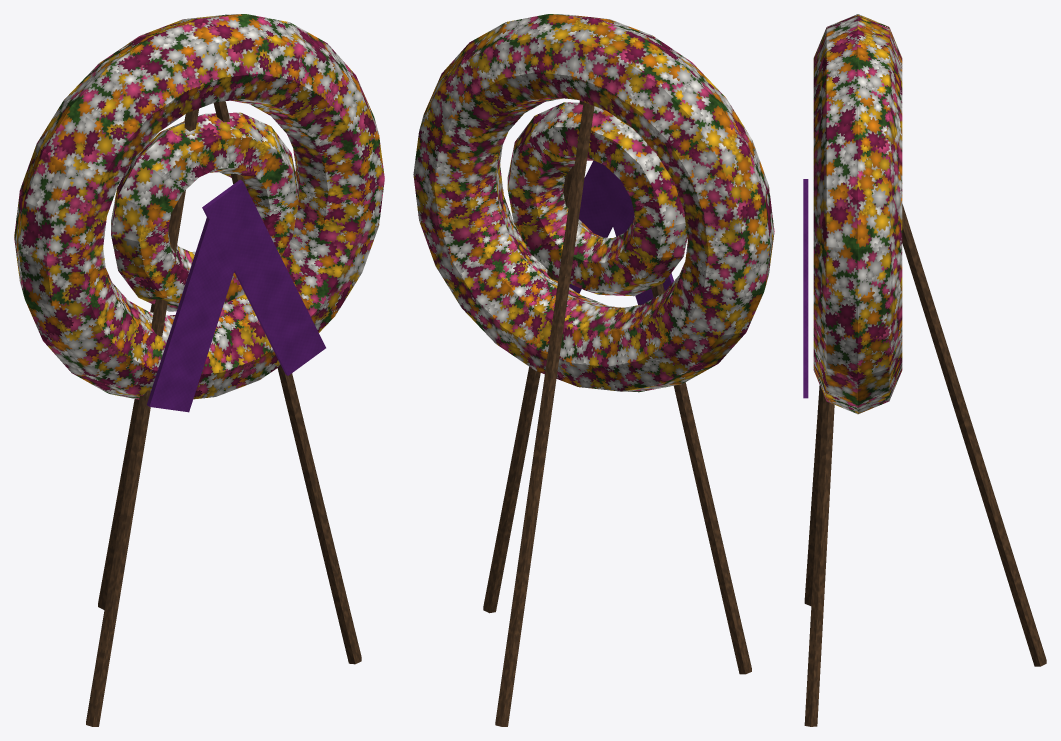
The model's file is corona_flores.obj.
The picture shows the model from 3 angles, left to right: view 1: azimuth 30°, elevation 25°; view 2: azimuth 150°, elevation 25°; view 3: azimuth 270°, elevation 25°; orthographic projection. The views are drawn at different scales.
Parts seen in each view (by area): view 1: Corona, Torus.001, Liston, Liston.001, Pata_Tripie, Pata_Tripie.001, Pata_Tripie.002; view 2: Corona, Torus.001, Pata_Tripie.002, Pata_Tripie, Pata_Tripie.001, Liston, Liston.001; view 3: Corona, Pata_Tripie.002, Pata_Tripie.001, Pata_Tripie, Liston.
Part boxes in pixels (x1,y1,x2,y2): Corona: (14, 14, 384, 399); Torus.001: (111, 112, 298, 311); Liston: (202, 179, 325, 375); Liston.001: (147, 217, 248, 412); Pata_Tripie: (86, 108, 198, 726); Pata_Tripie.001: (213, 101, 361, 664); Pata_Tripie.002: (98, 114, 186, 609); Corona: (413, 14, 774, 392); Torus.001: (507, 102, 687, 296); Pata_Tripie.002: (495, 102, 594, 726); Pata_Tripie: (631, 199, 751, 674); Pata_Tripie.001: (483, 100, 583, 613); Liston: (545, 160, 627, 293); Liston.001: (597, 175, 673, 304); Corona: (813, 14, 902, 414); Pata_Tripie.002: (902, 204, 1046, 666); Pata_Tripie.001: (804, 394, 834, 726); Pata_Tripie: (804, 385, 823, 605); Liston: (803, 179, 808, 398).
Size of the model in its own units: 0.77 by 1.34 by 0.4667.
Materials: 3 (3 with a texture image).
